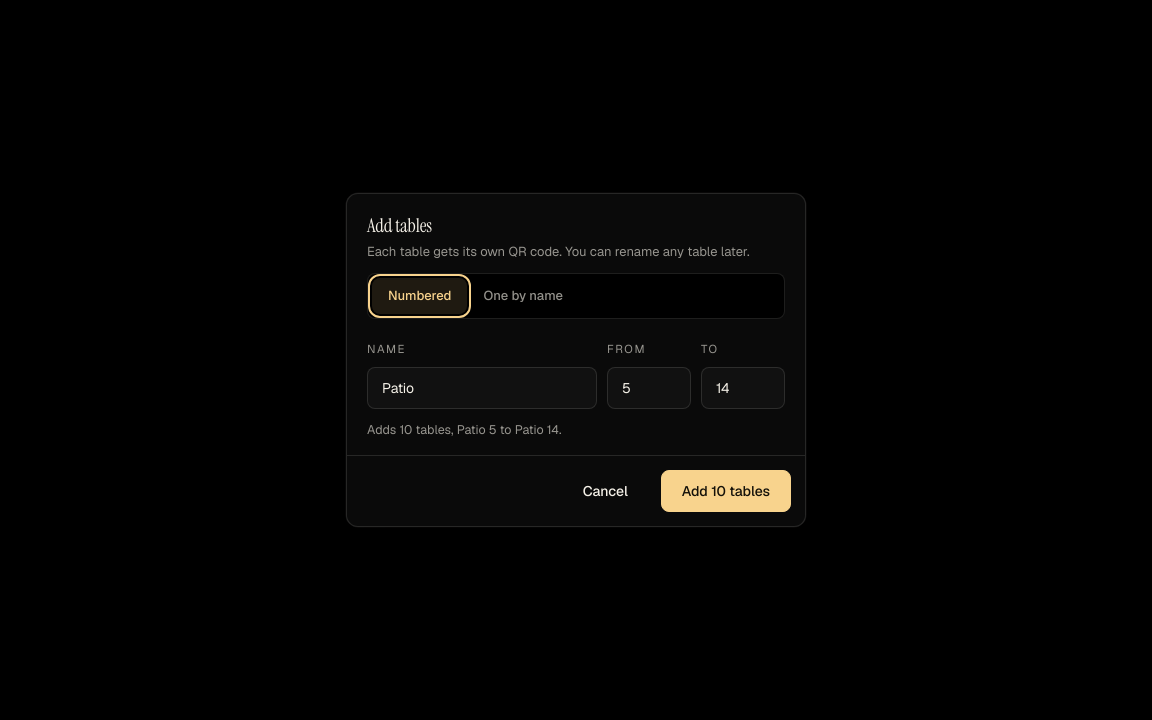
it: AddTablesDialog › names a run of one by itself, and says when the numbers make no run
Check: the field labelled "Name" holds "Patio", box x1=368 y1=368 x2=596 y2=408
Replace the text in the field labelled "To" with "5" at [743, 388], box x1=702 y1=368 x2=784 y2=408
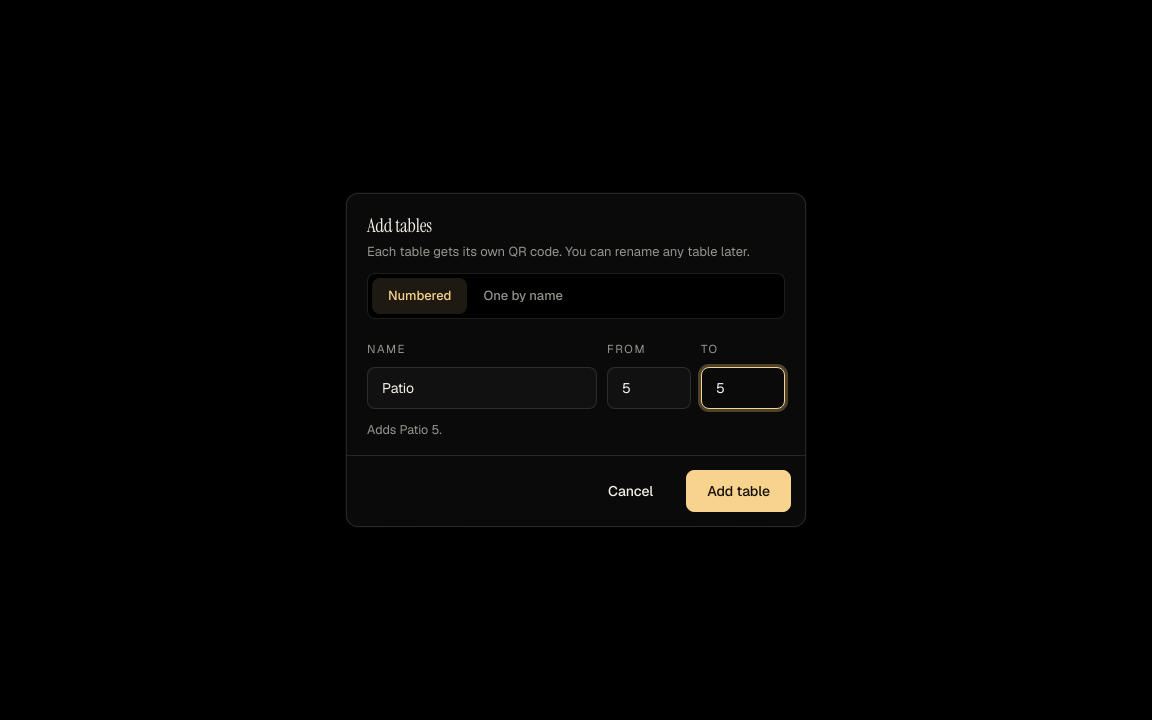
Check: the button "Add table" is shown, box x1=686 y1=470 x2=791 y2=512
Check: the text "Adds Patio 5." is shown, box x1=367 y1=421 x2=442 y2=438
Clear the field labelled "To" at [743, 388], box x1=702 y1=368 x2=784 y2=408
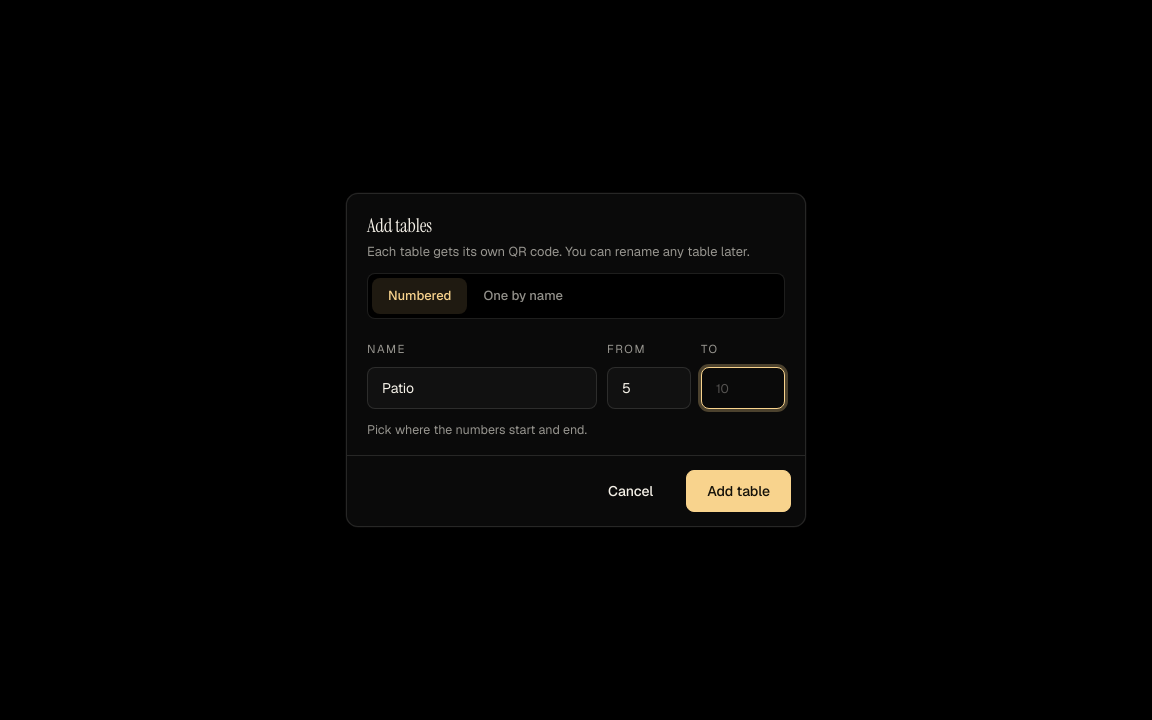
Check: the text "Pick where the numbers start and end." is shown, box x1=367 y1=421 x2=587 y2=438
